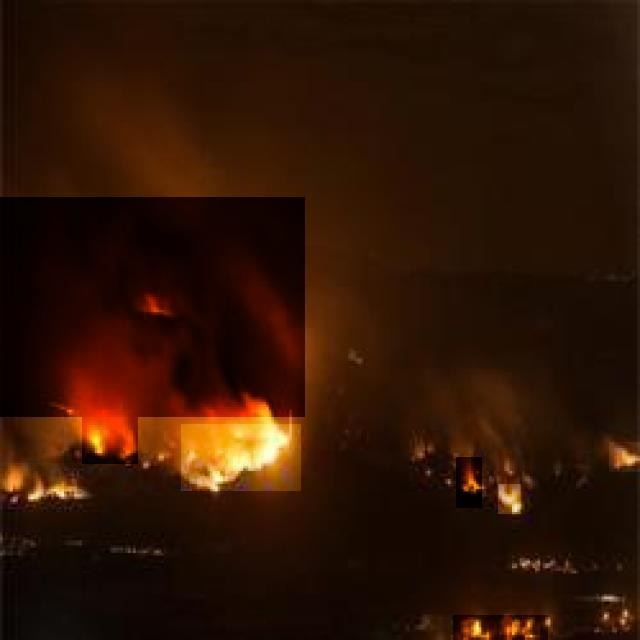Fire: (181, 424, 301, 491), (0, 463, 84, 509), (82, 412, 138, 464), (453, 615, 548, 640), (456, 457, 482, 508), (609, 442, 640, 472), (498, 484, 521, 514)
Smoke: (0, 197, 305, 417)
